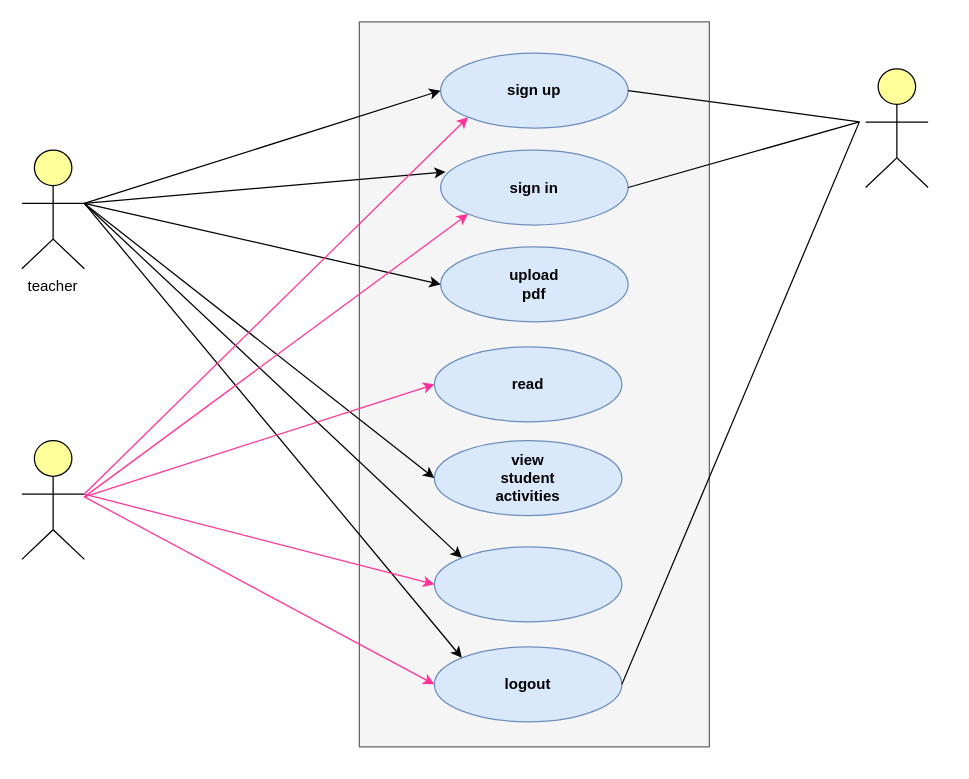
This 969x779 diagram has some shape labels left out. The centre of each missing label's shape, as x and y in pixels:
"<<system>> authentification" belongs at point (896, 128).
"message" belongs at point (527, 584).
"student" belongs at point (52, 499).
